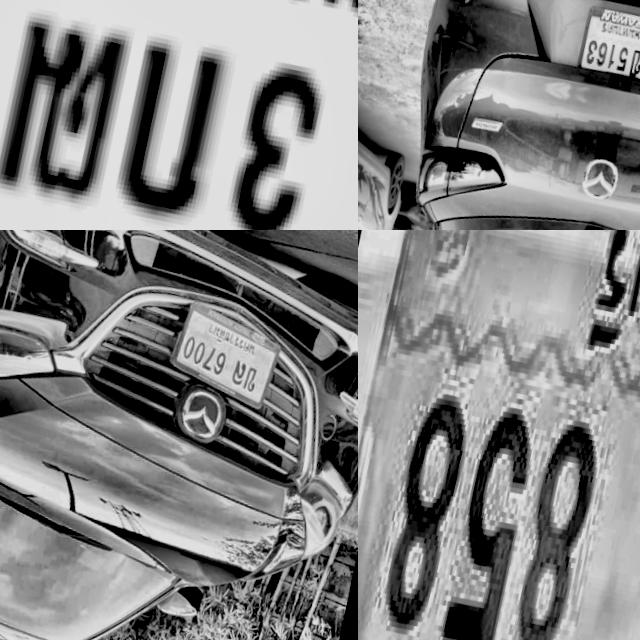license-plate: (358, 230, 640, 640), (0, 0, 358, 230), (157, 292, 289, 421), (569, 0, 640, 96)
